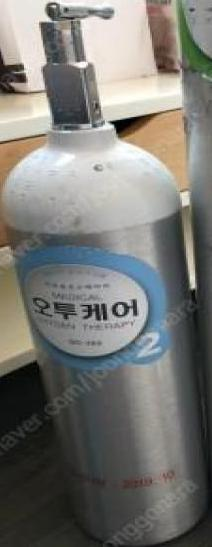cylinder: (1, 1, 212, 547)
